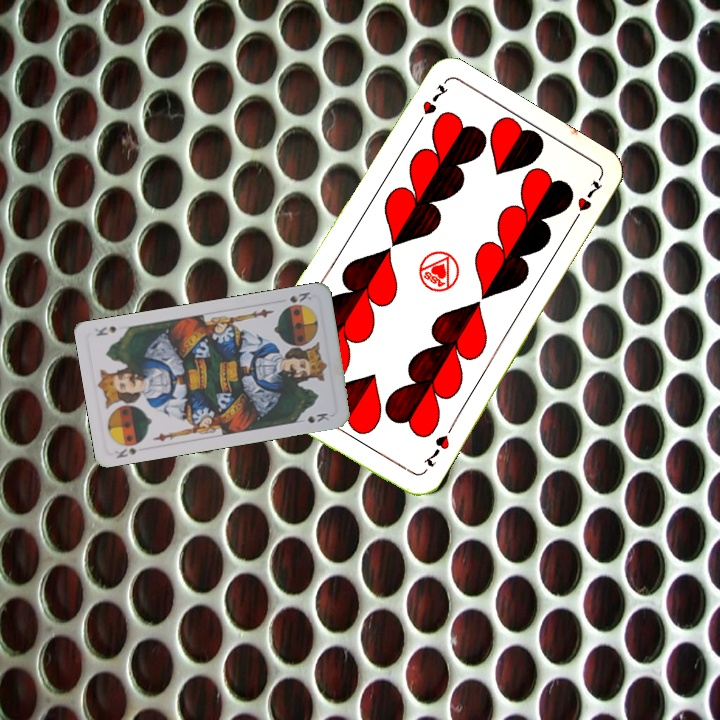H7: (411, 79, 451, 131), (419, 422, 456, 470)
SK: (111, 437, 145, 461), (286, 288, 314, 305)
